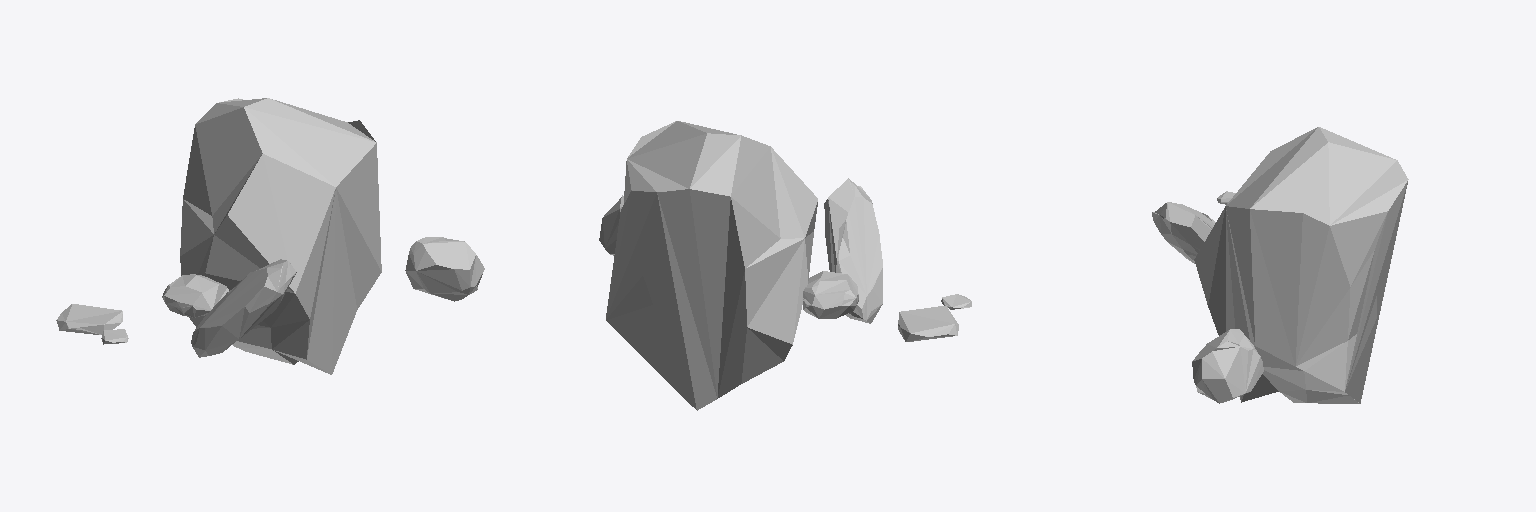
The model's file is RockGroup_LOD1.obj.
3 renders of one model, left to right at view 1: azimuth 30°, elevation 25°; view 2: azimuth 150°, elevation 25°; view 3: azimuth 270°, elevation 25°, orthographic.
Parts seen in each view (by area): view 1: RockGroup_Cube.003; view 2: RockGroup_Cube.003; view 3: RockGroup_Cube.003.
Part boxes in pixels (x1,y1,x2,y2): RockGroup_Cube.003: (56, 98, 484, 374); RockGroup_Cube.003: (599, 121, 971, 410); RockGroup_Cube.003: (1152, 127, 1408, 403).
Bounding box in the file's own units: 2.33 × 1.54 × 1.35.